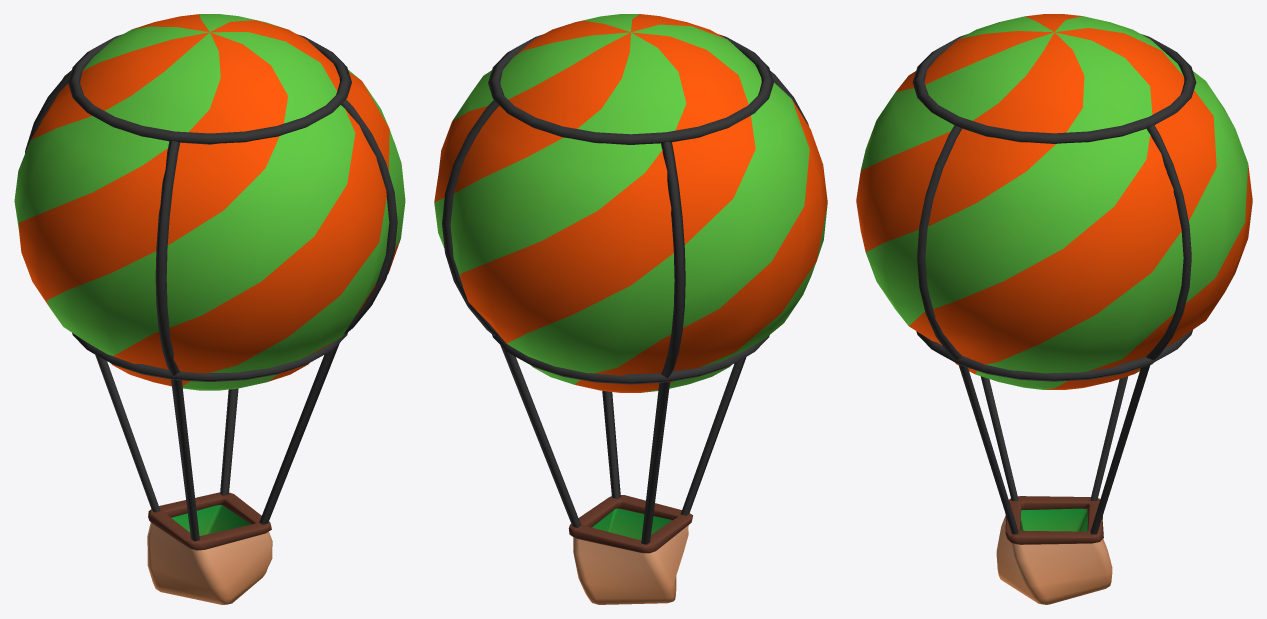
File: air_balloon_002.glb
3 renders of one model, left to right at view 1: azimuth 30°, elevation 25°; view 2: azimuth 150°, elevation 25°; view 3: azimuth 270°, elevation 25°, orthographic.
Visible parts, largest first — view 1: air_balloon_002; view 2: air_balloon_002; view 3: air_balloon_002.
Boxes of the visible parts, left/top/right/bottom form: air_balloon_002: left=14, top=14, right=405, bottom=604; air_balloon_002: left=434, top=14, right=827, bottom=604; air_balloon_002: left=856, top=14, right=1252, bottom=604.
Size of the model in its own units: 9.61 by 14.78 by 9.61.
1 material, 1 textured.
